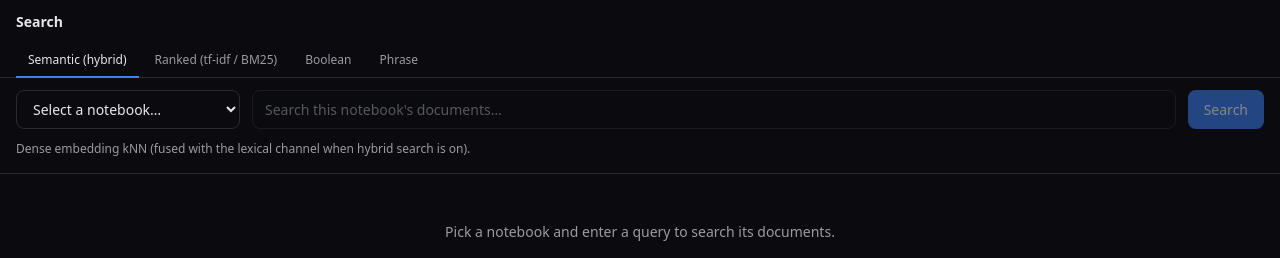
Test: SearchPage › shows 'No matching passages found.' when a search returns zero results
This screenshot has width=1280, height=258.
Select "Chemistry" in the dropdown named "Notebook": (128, 110) [16,90,240,129]
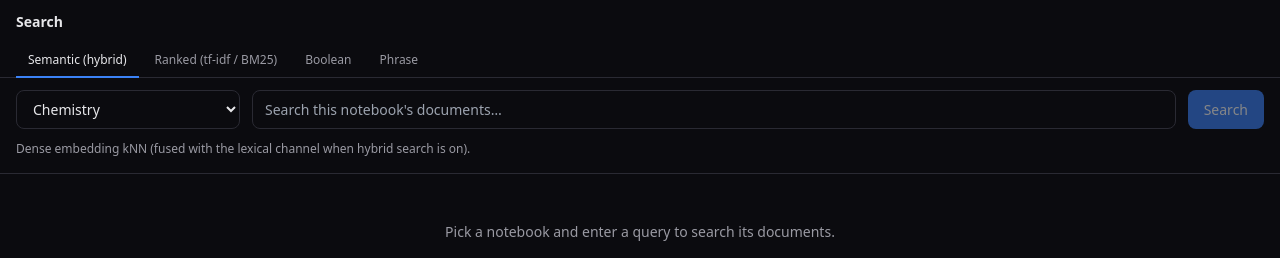
In the field with placeholder "Search this notebook's documents…": (714, 110) [252,90,1176,129], type "nothing"
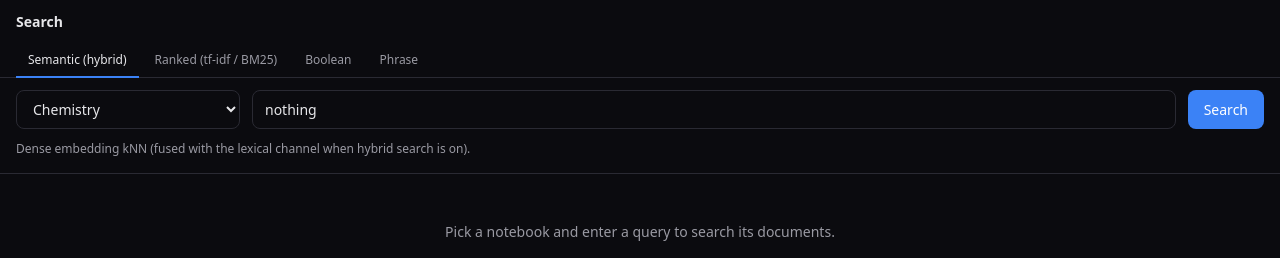
Click the button "Search": (1226, 110) [1188,90,1264,129]
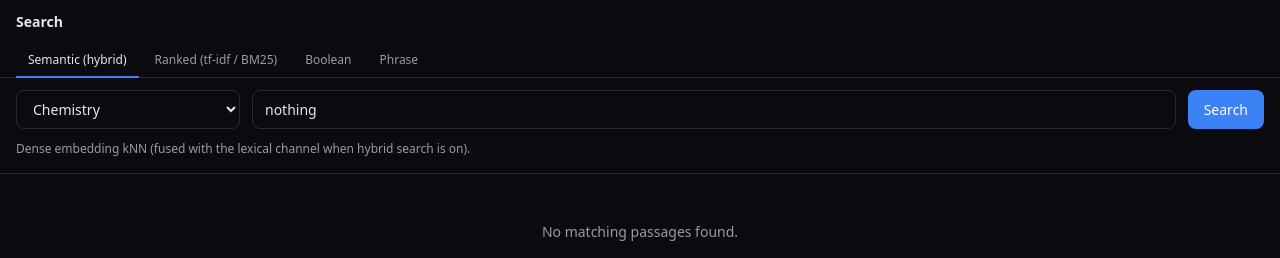
Result: the text "No matching passages found." is shown at [542,222,738,241]
